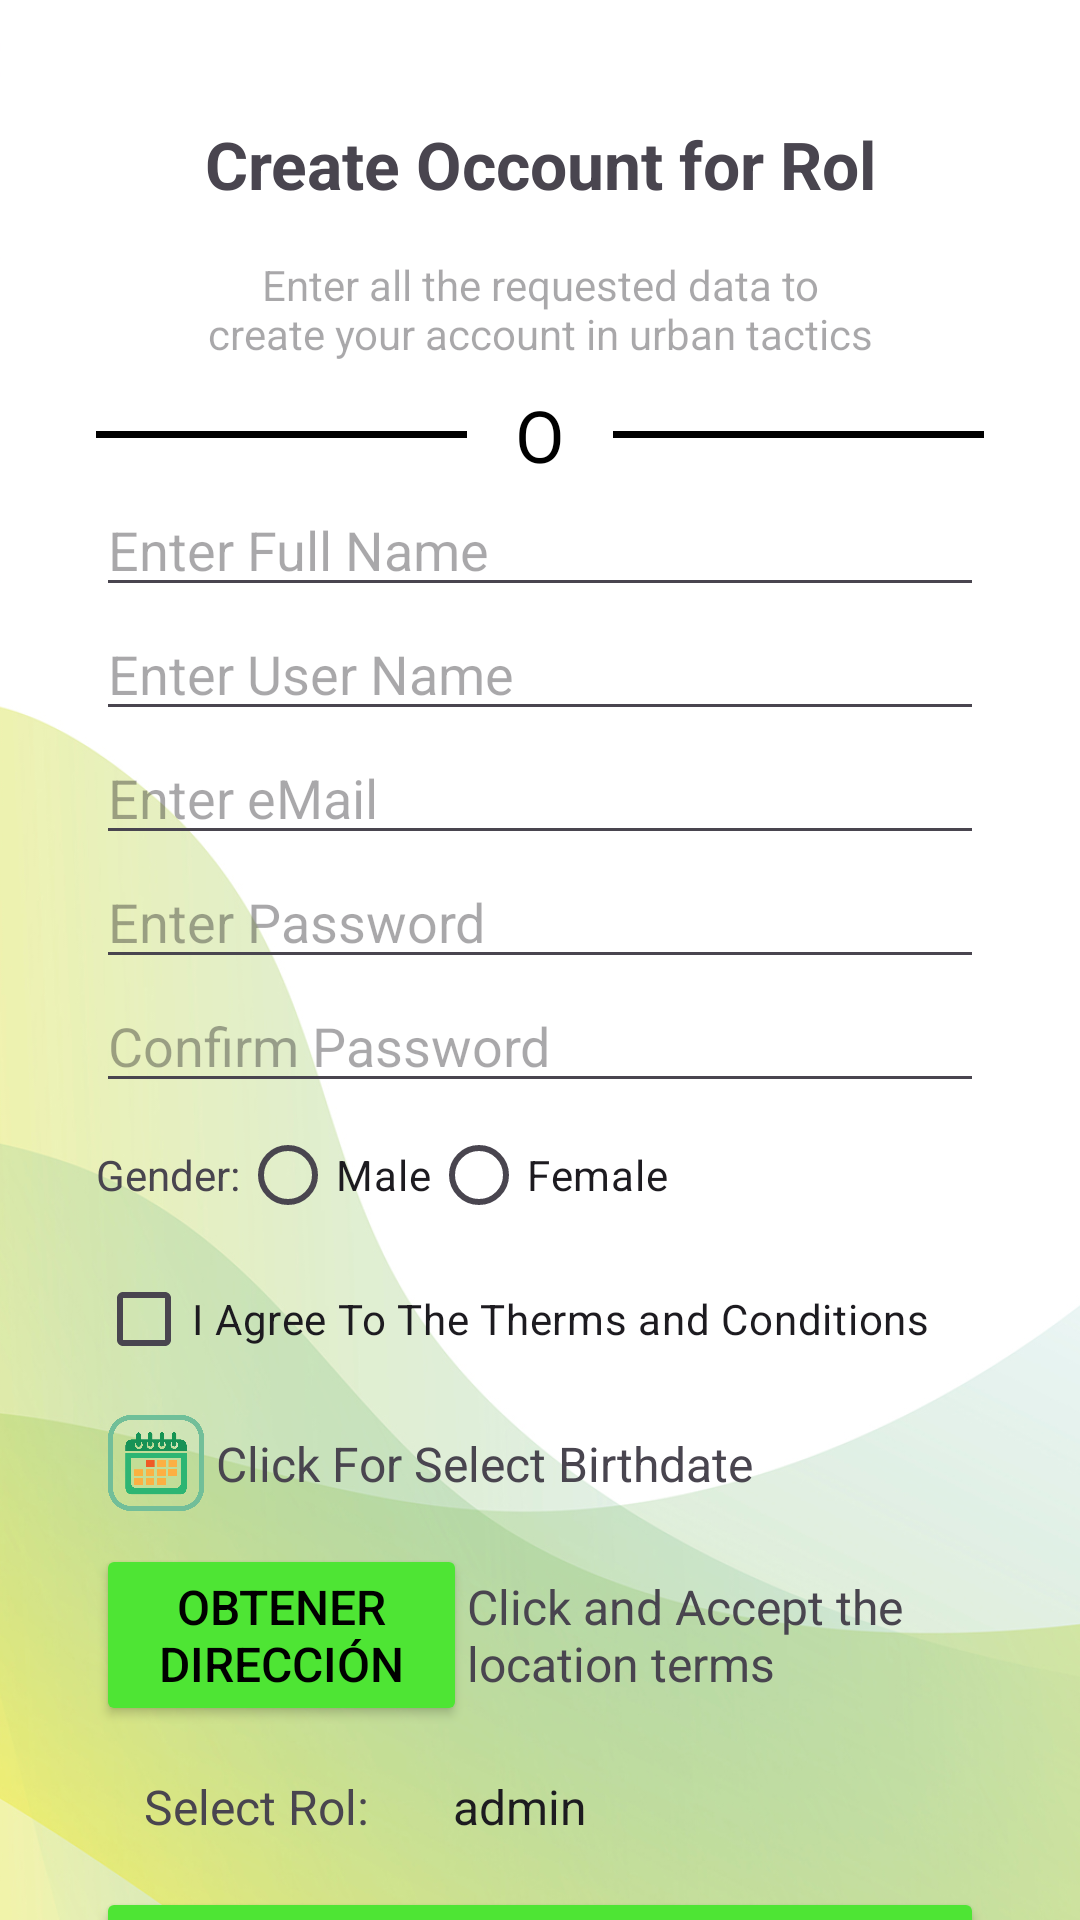

Screen size 1080px×1920px. Icon name, then its center in pixels as (x=x, y=y):
calendar: (x=156, y=1463)
